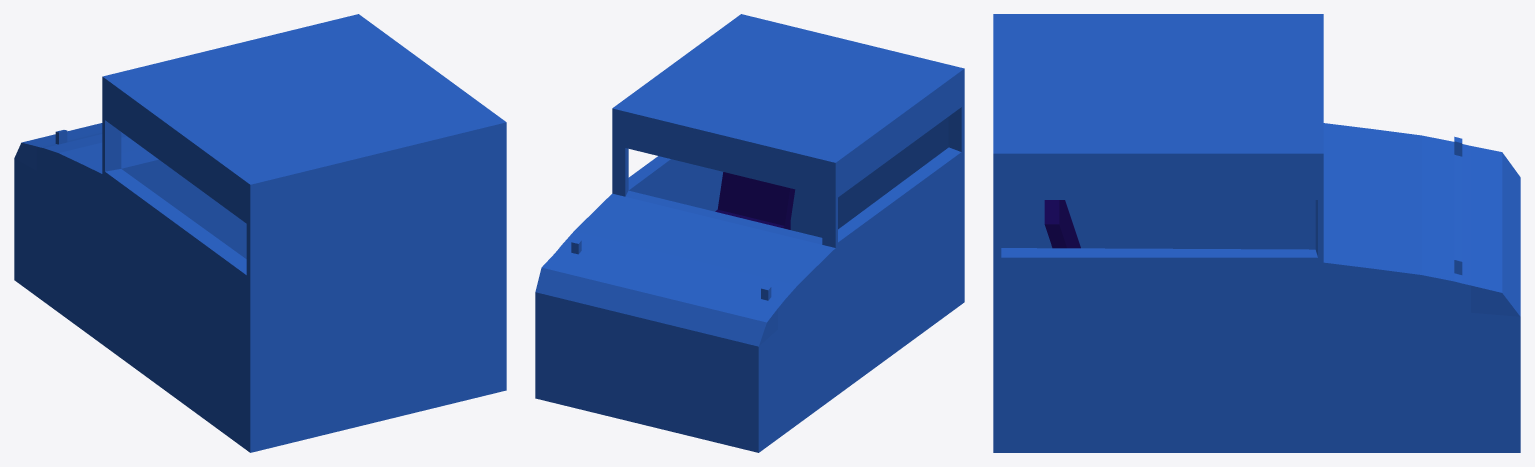
File: test_car4.fbx
The picture shows the model from 3 angles, left to right: view 1: azimuth 30°, elevation 25°; view 2: azimuth 150°, elevation 25°; view 3: azimuth 270°, elevation 25°; orthographic projection. The views are drawn at different scales.
Parts seen in each view (by area): view 1: Cube; view 2: Cube, Cube.001; view 3: Cube, Cube.001.
Boxes of the visible parts, bbox=[...] form: Cube: bbox=[14, 14, 506, 452]; Cube: bbox=[535, 14, 964, 452]; Cube.001: bbox=[715, 172, 795, 229]; Cube: bbox=[993, 14, 1520, 452]; Cube.001: bbox=[1044, 200, 1080, 248].
Size of the model in its own units: 202 by 200 by 319.
